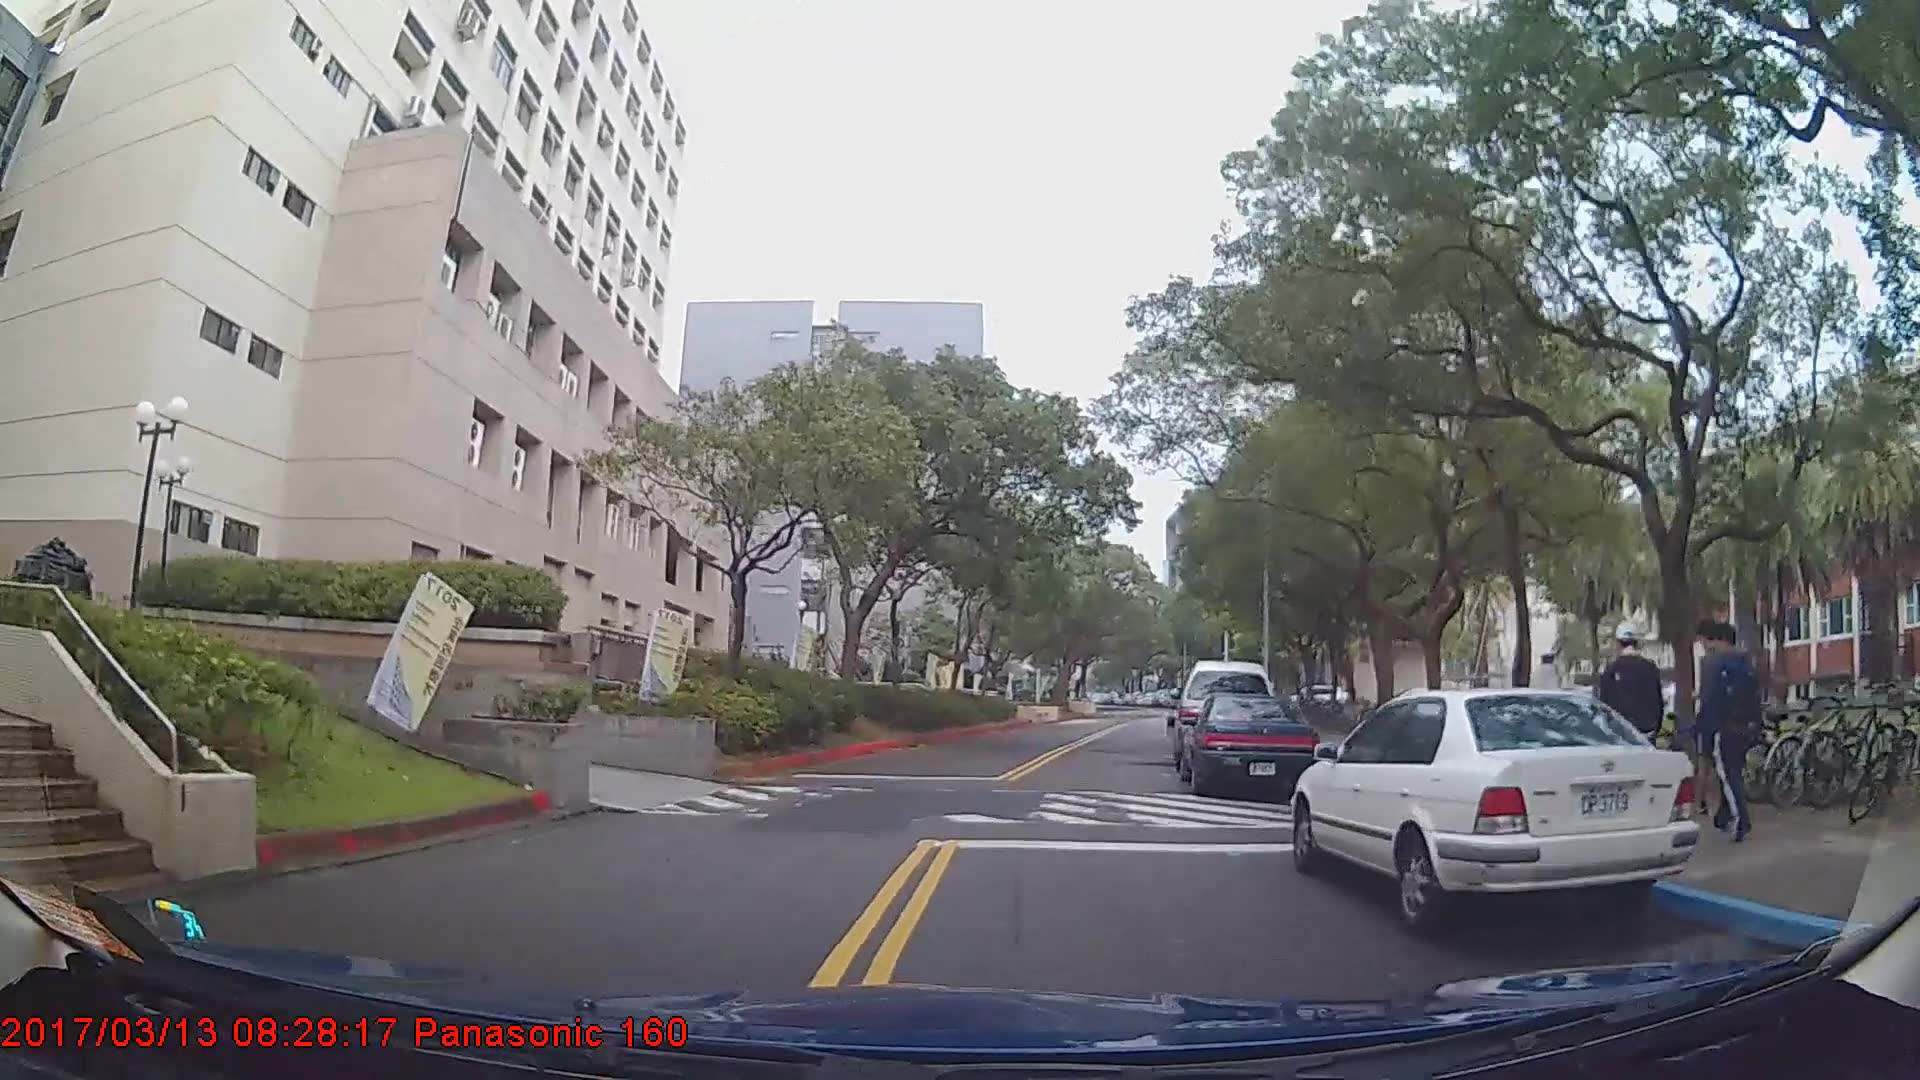pedestrian: (1692, 623, 1759, 833), (1605, 619, 1667, 823)
vehicle: (1289, 686, 1701, 937), (1177, 690, 1321, 795)
